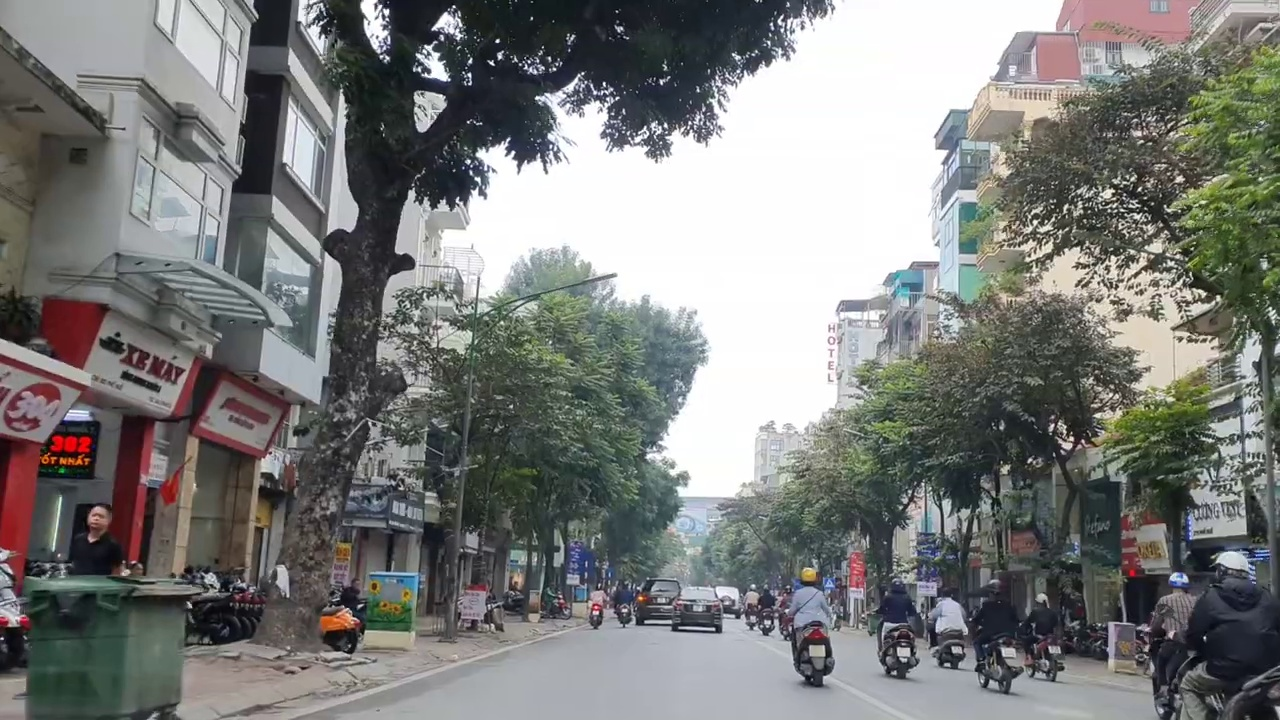vehicle-plate: (805, 639, 833, 656), (996, 642, 1016, 658), (892, 644, 914, 658), (1046, 642, 1062, 653), (952, 642, 961, 653), (693, 603, 702, 611), (655, 596, 667, 602), (764, 617, 772, 624), (592, 610, 600, 615), (621, 608, 628, 613), (750, 614, 755, 620), (722, 599, 728, 604)
